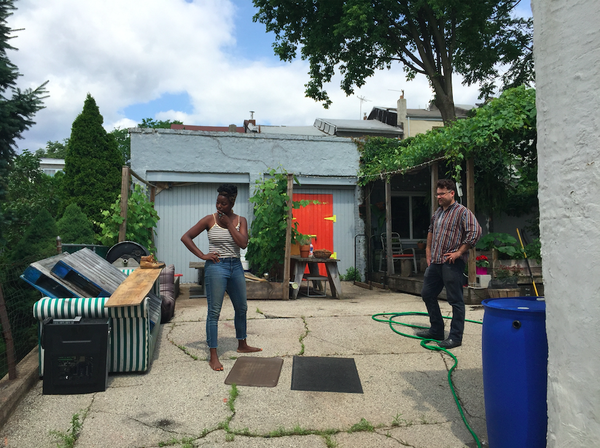Person: (180, 184, 262, 371), (416, 178, 482, 348)
